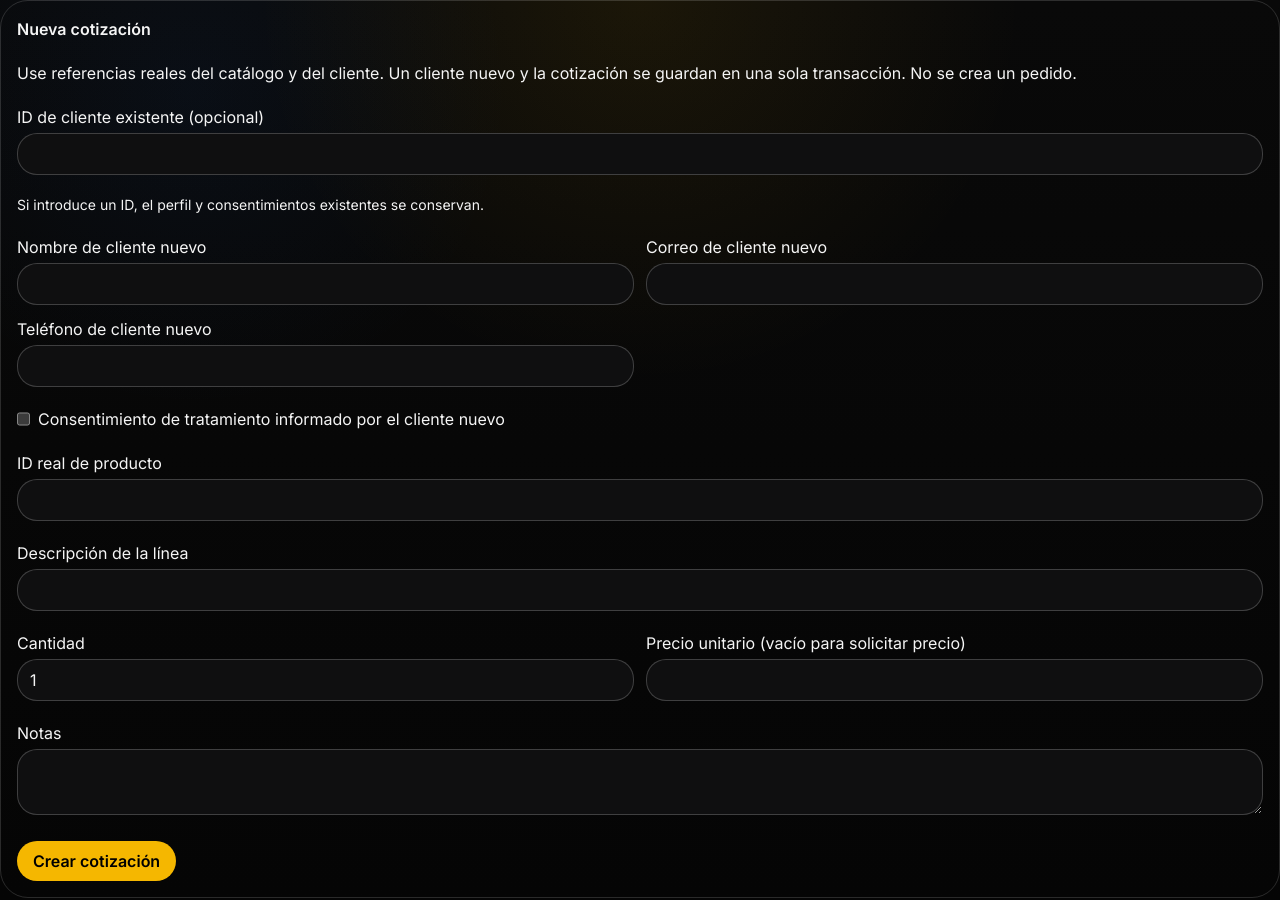
Test case: CRM confirmations match the requested resource and canonical effect › does not navigate after creating a quote for a different selected customer
Type "00000000-0000-4000-8000-000000000001" into the field labelled "ID de cliente existente (opcional)" at (640, 154), box [17,133,1263,175]
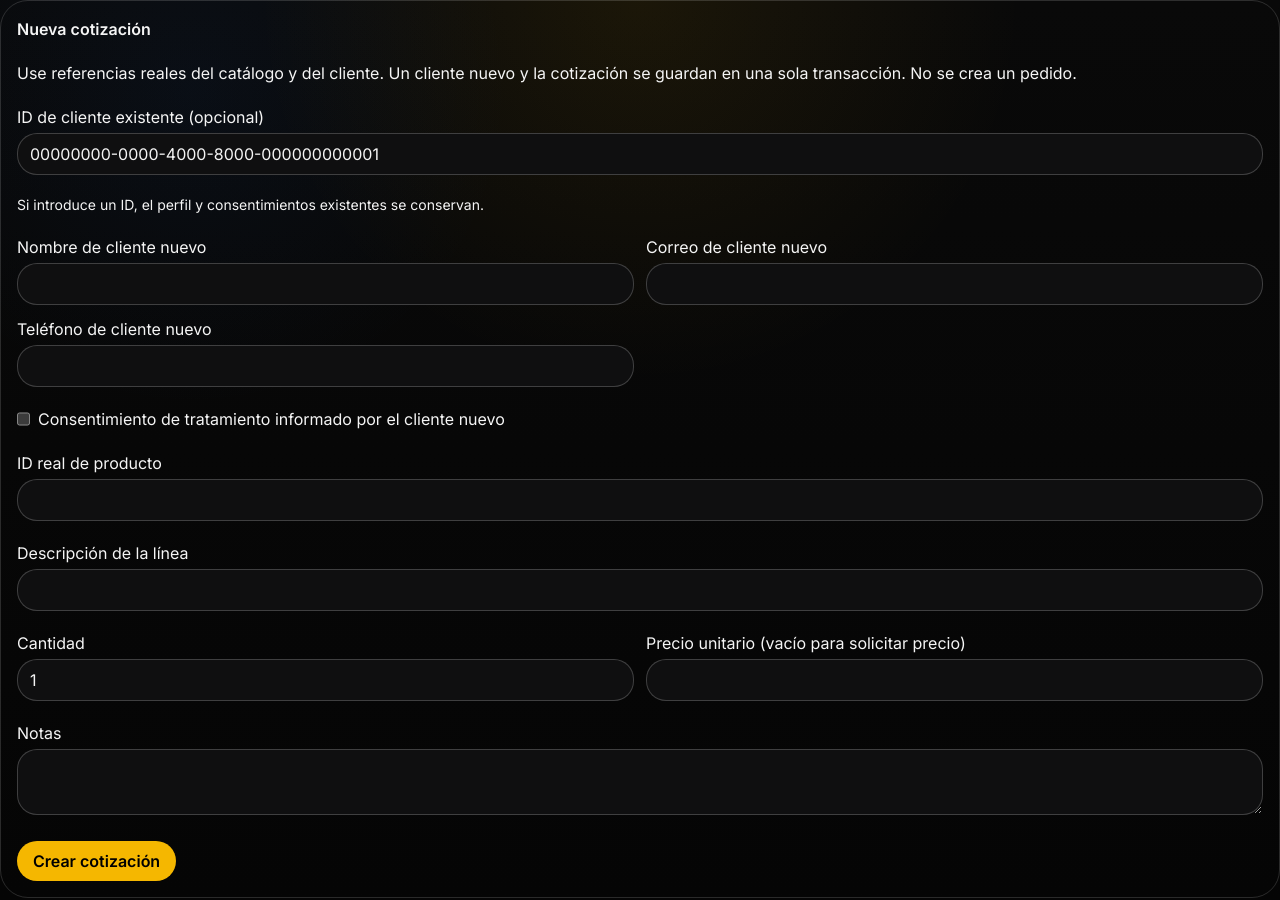
Type "00000000-0000-4000-8000-000000000004" into the field labelled "ID real de producto" at (640, 500), box [17,479,1263,521]
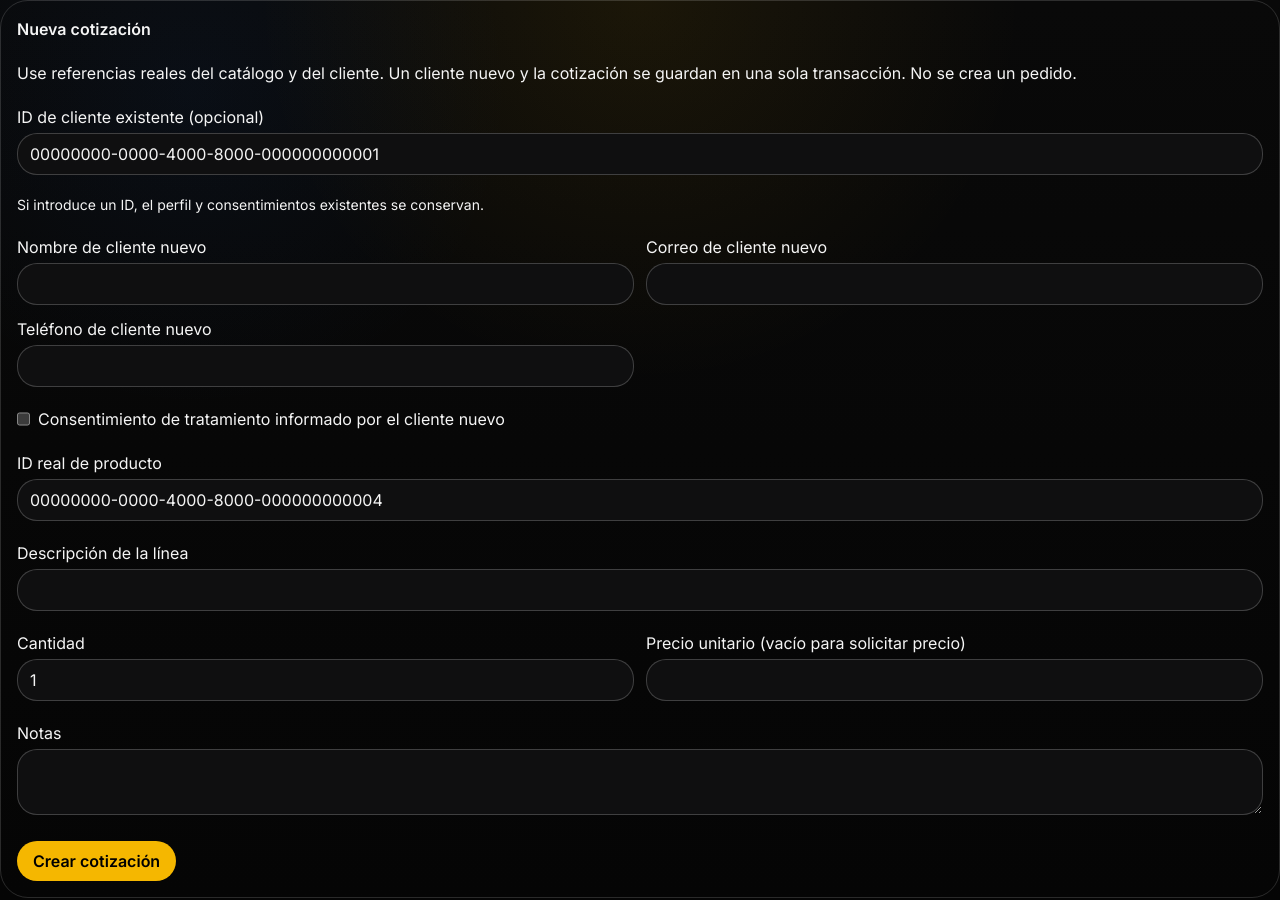
Type "Synthetic item" into the field labelled "Descripción de la línea" at (640, 590), box [17,569,1263,611]
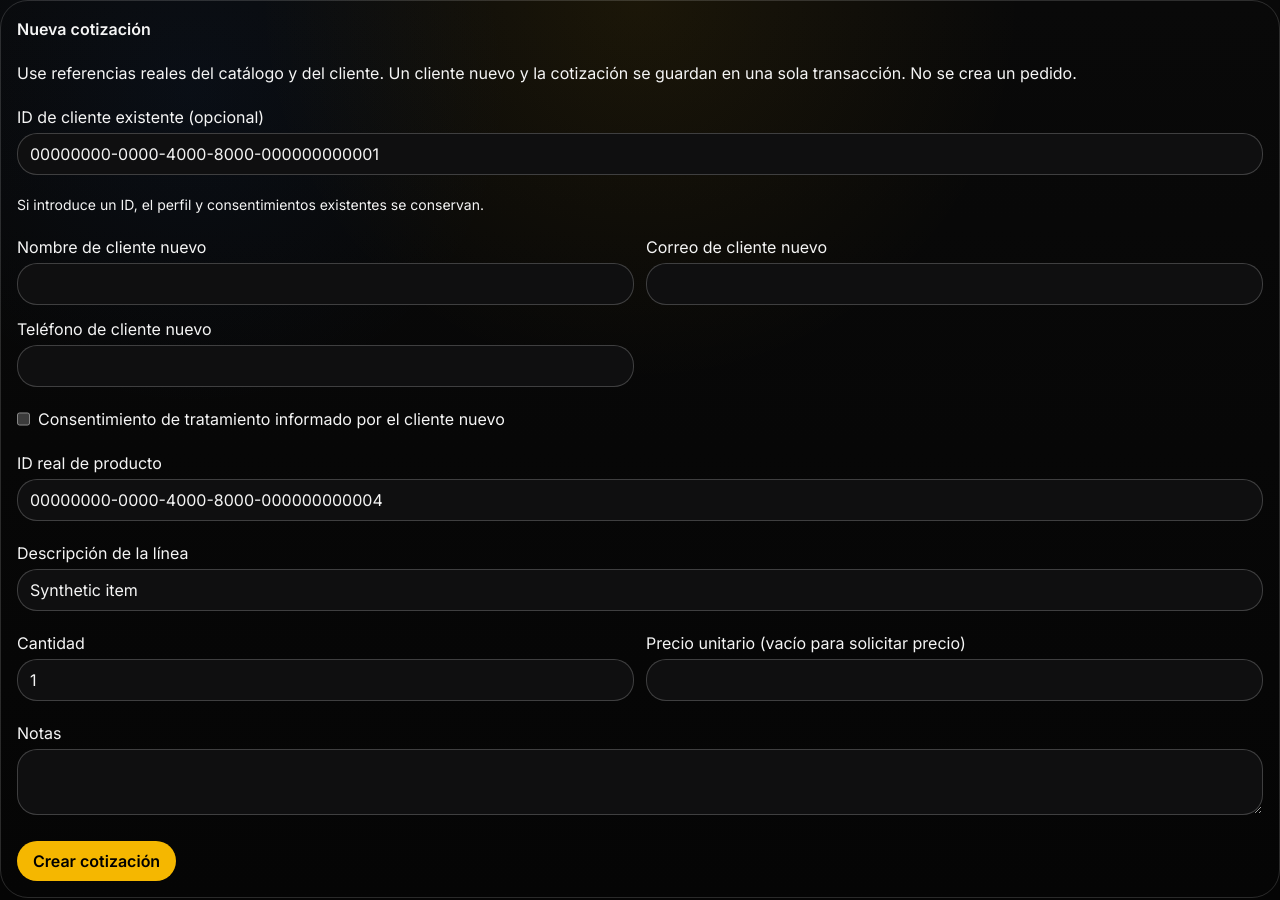
Submit the form named "Crear cotización"
(page scrolled)
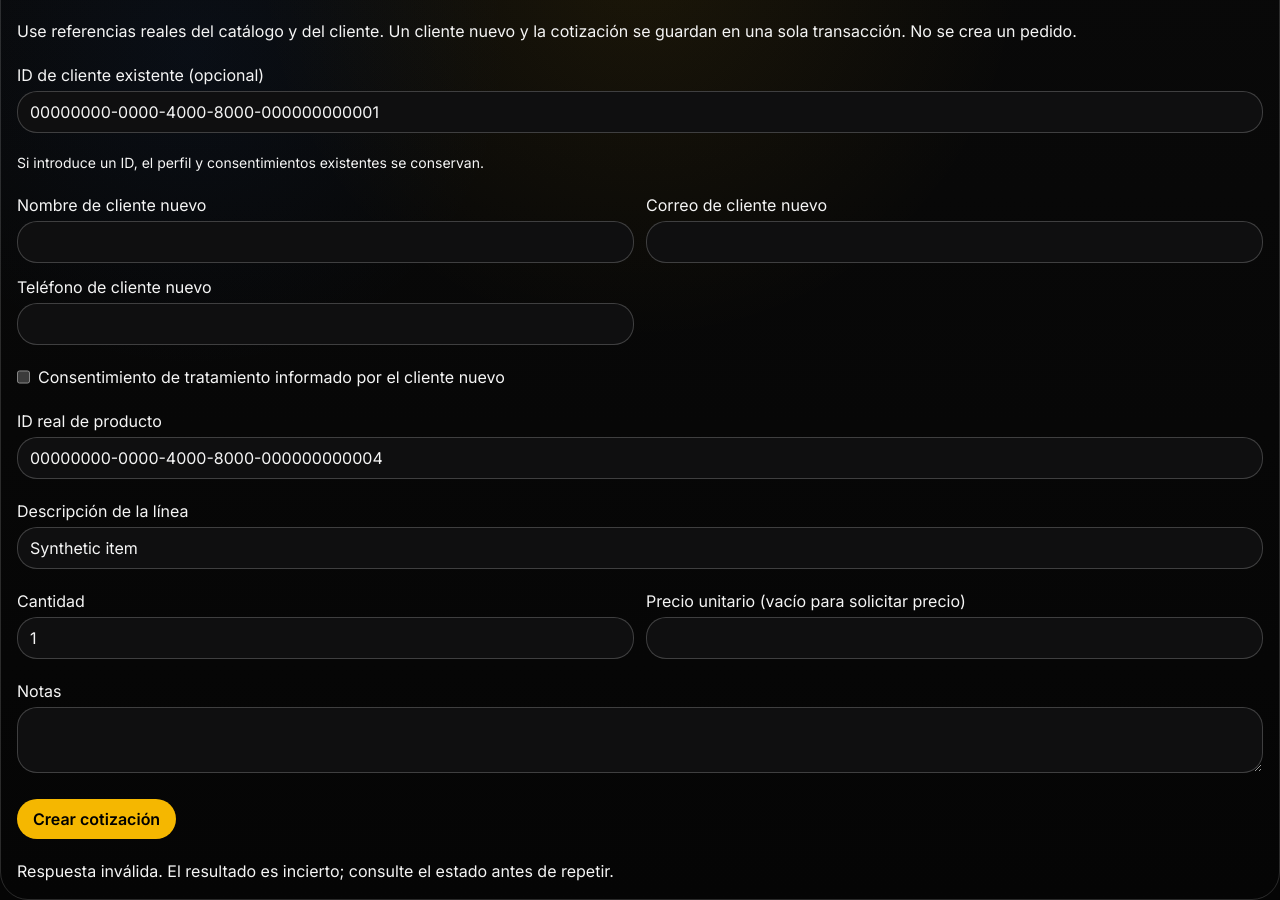
expect the message shows "incierto": met, box [17,861,614,881]
